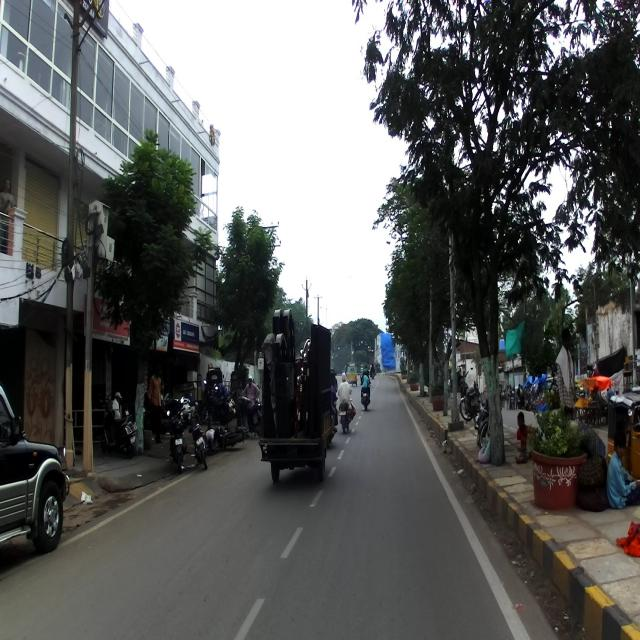autorickshaw: (258, 307, 333, 483)
car: (0, 382, 69, 555)
scooter: (100, 399, 138, 460)
